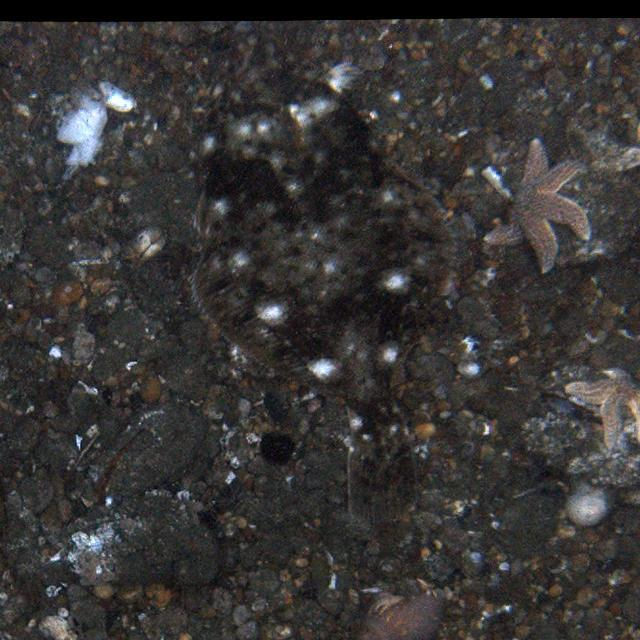flatfish: (181, 75, 438, 523)
